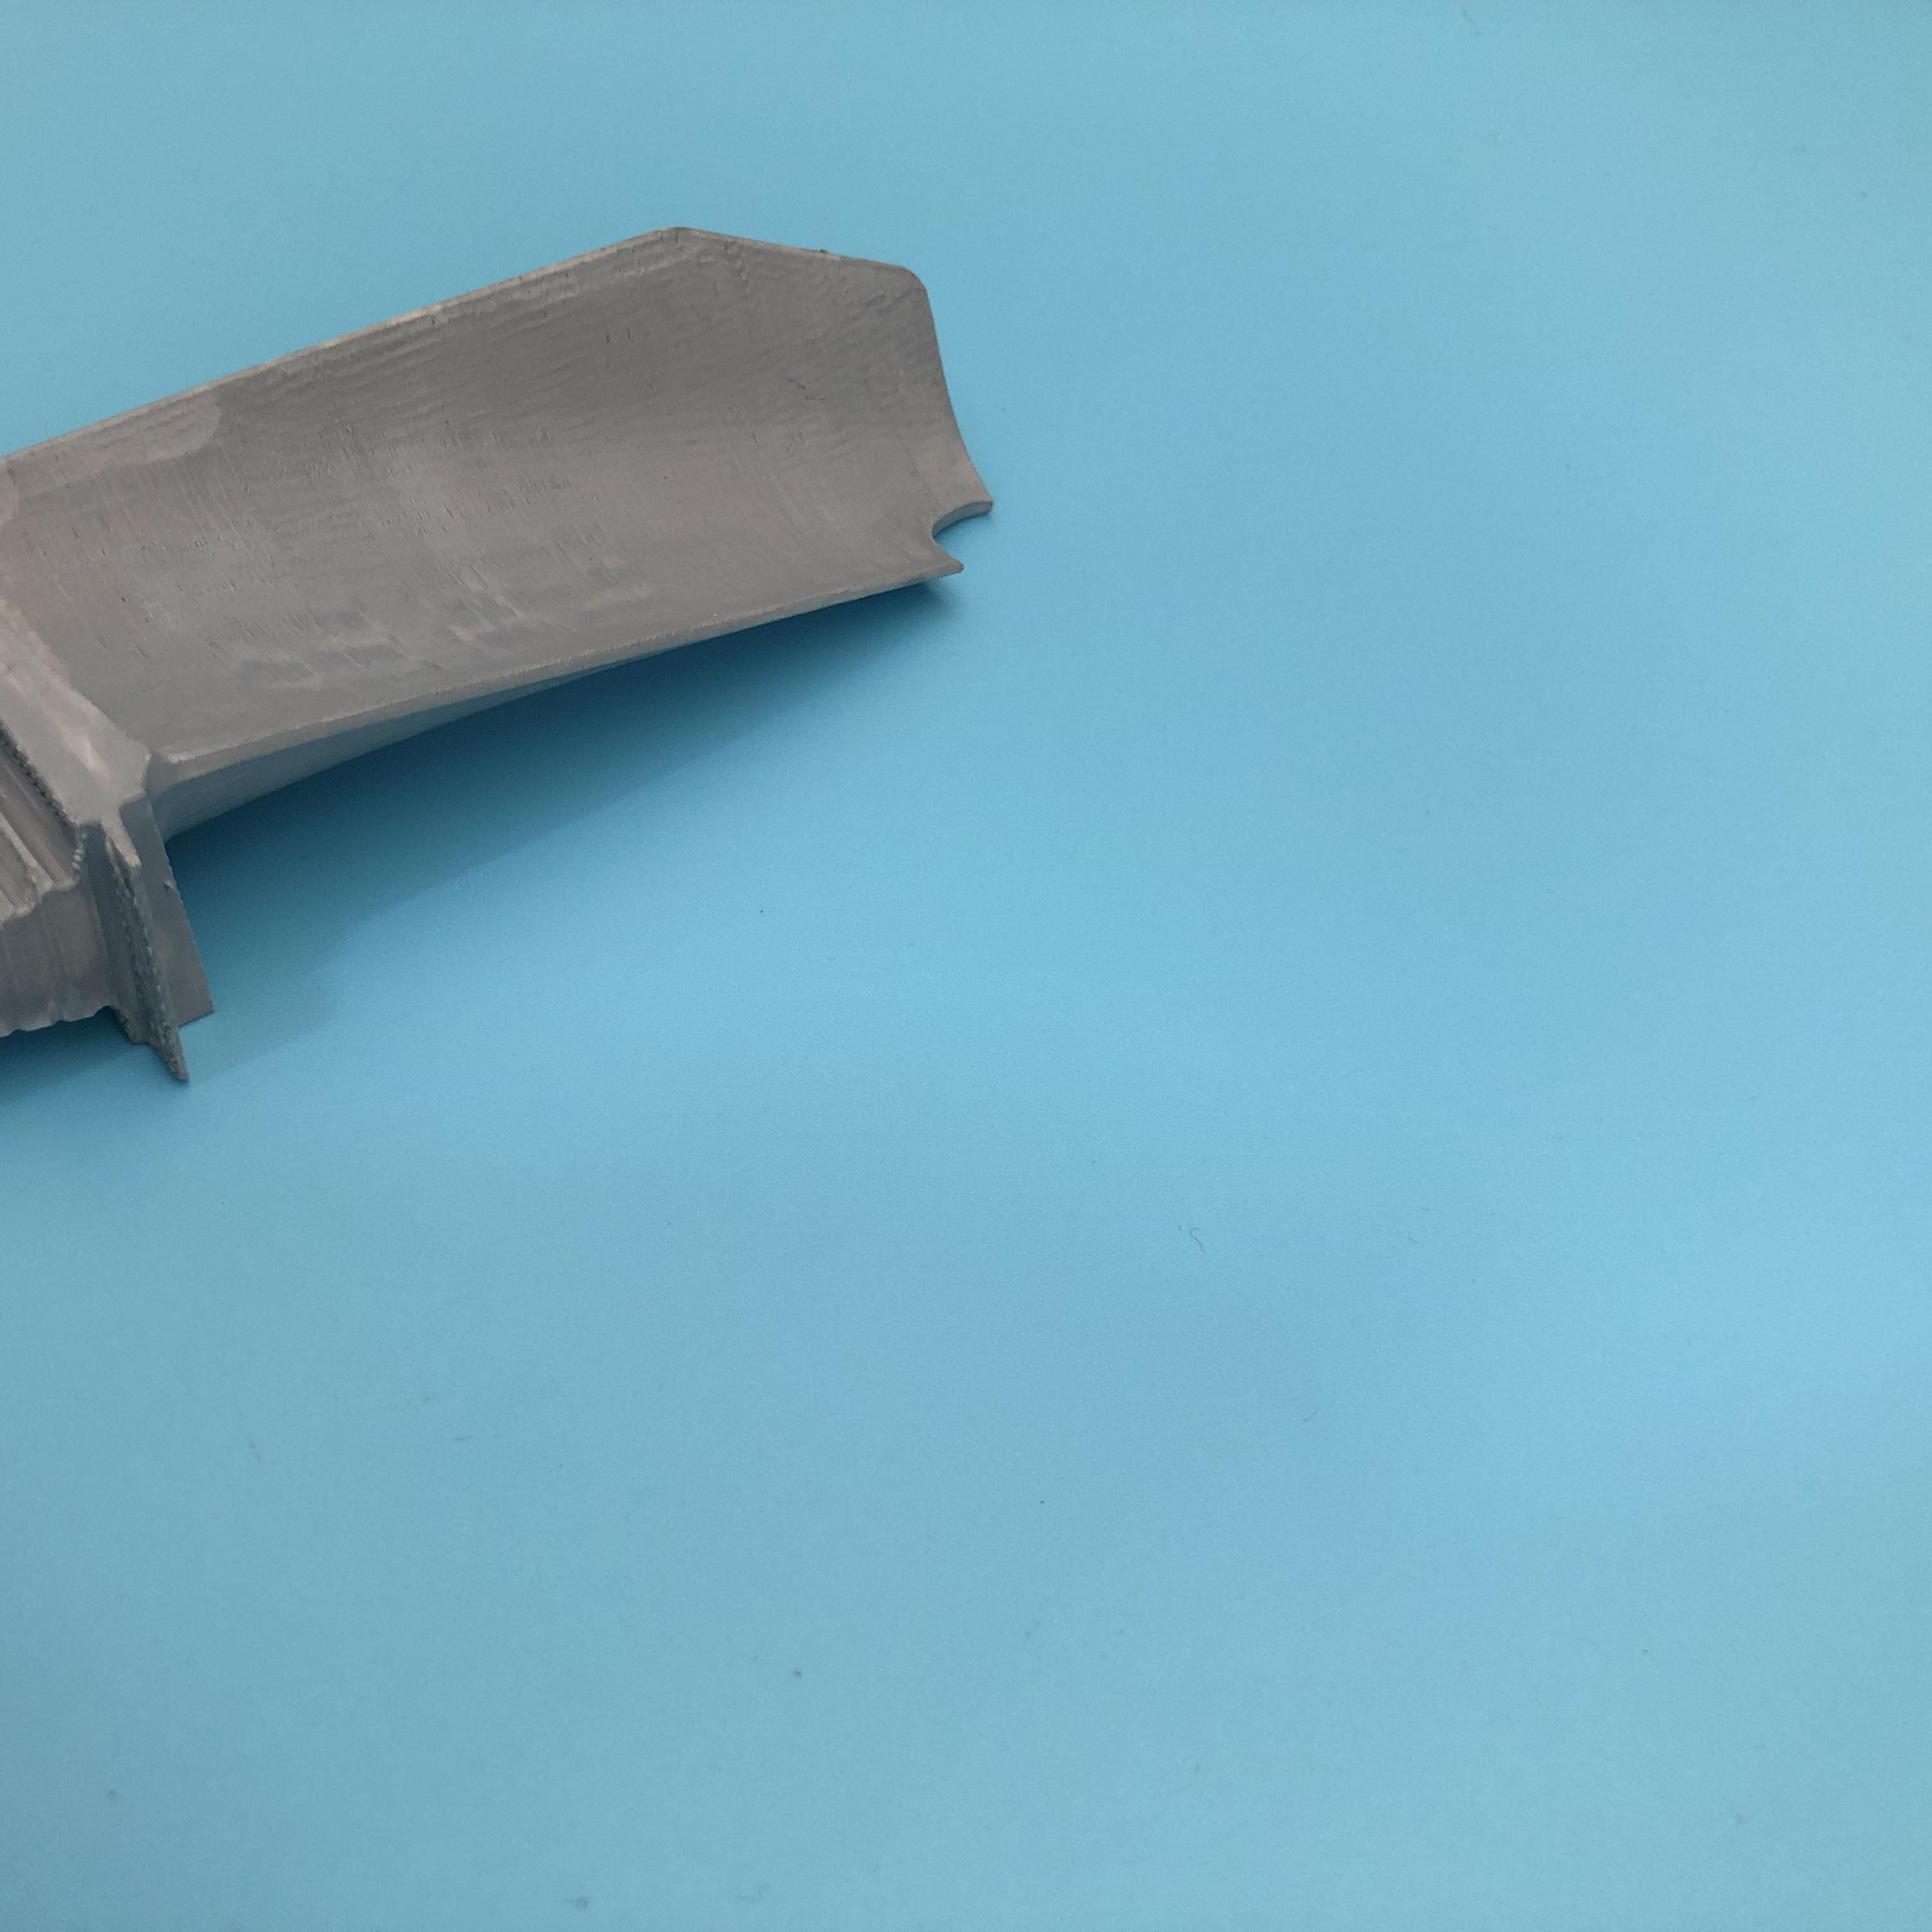fracture: (909, 499, 1001, 580)
